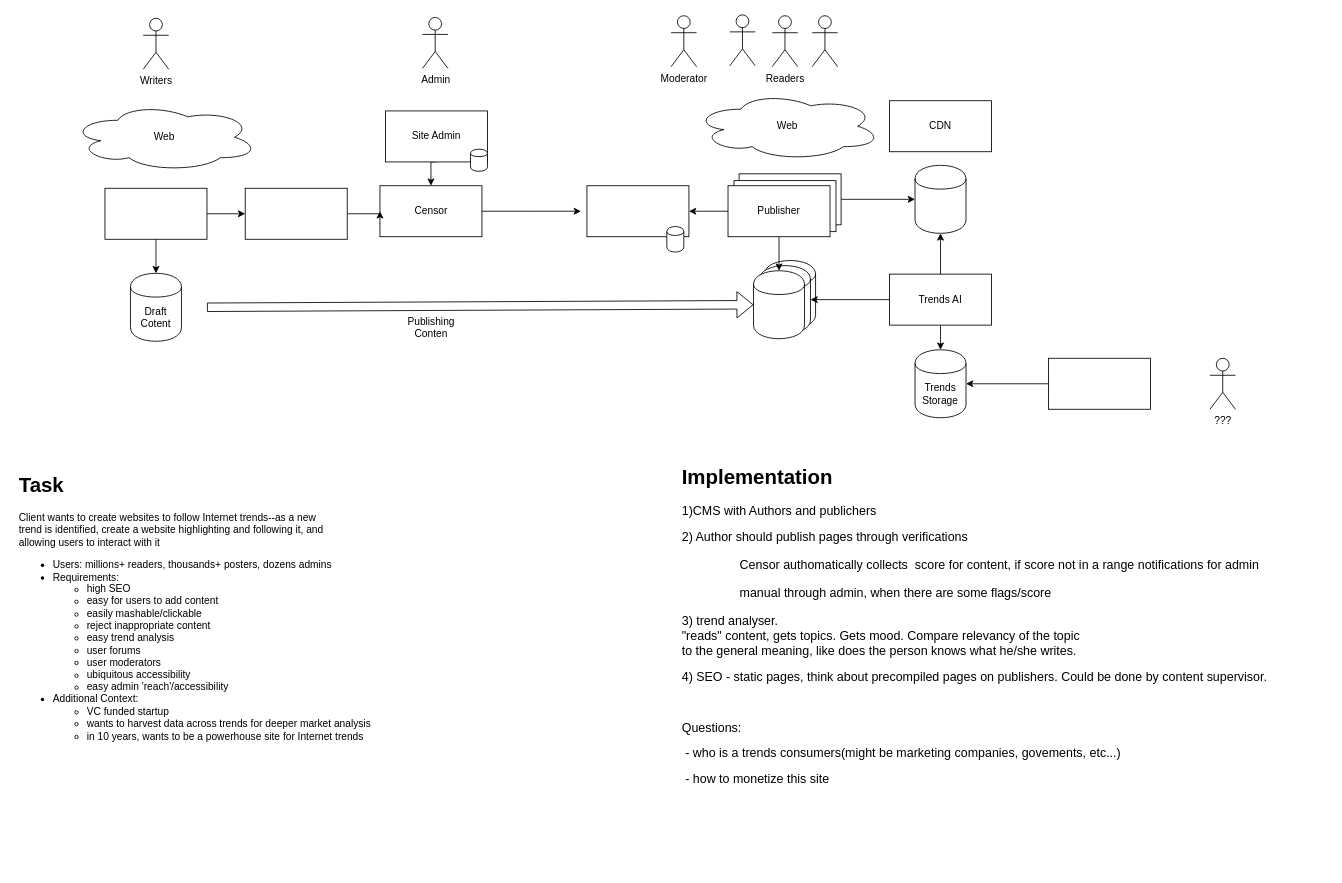
This 1342x883 diagram has some shape labels left out. Here are the shapes that lost their labels. From the top down, the centre of each, then its label:
At point 155,213: "Author".
At point 295,213: "Content Supervisor".
At point 637,211: "Social (Comments, forum, etc)".
At point 940,198: "Statitic Storage".
At point 779,304: "Published Content".
At point 1099,383: "Trends Dashboard".
